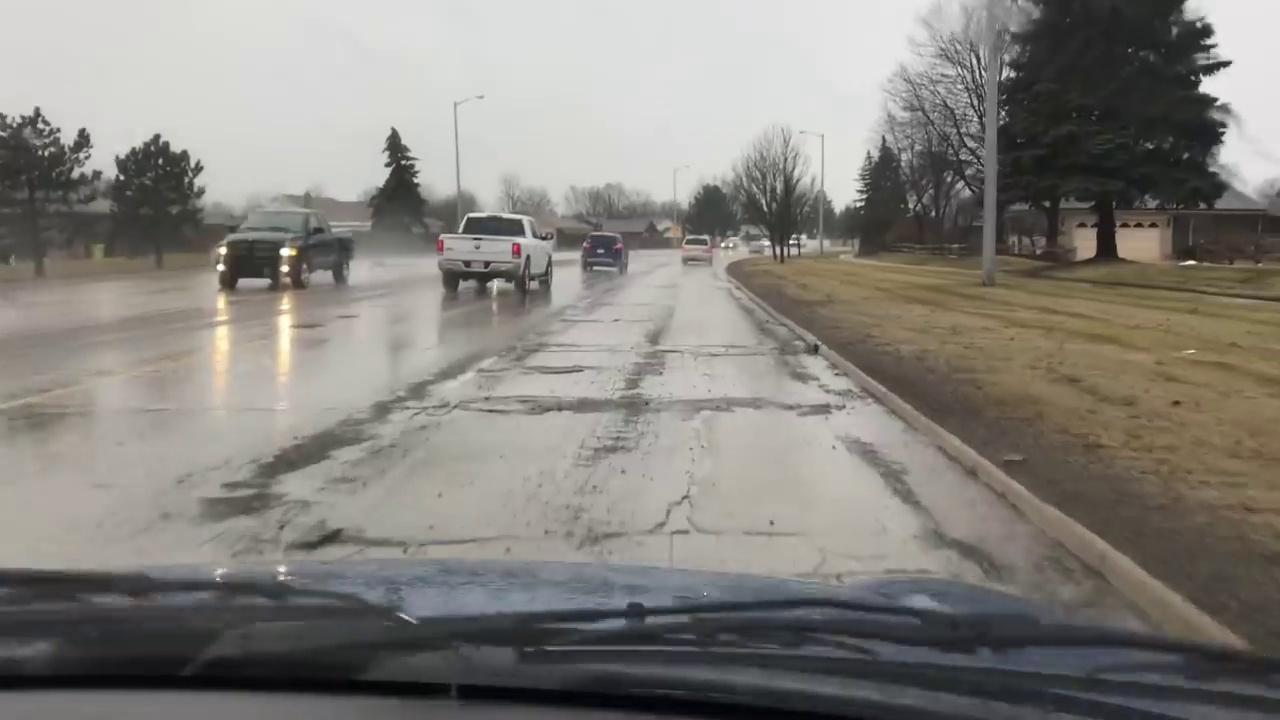pothole: (465, 395, 613, 414), (652, 494, 709, 534), (528, 362, 585, 376)
